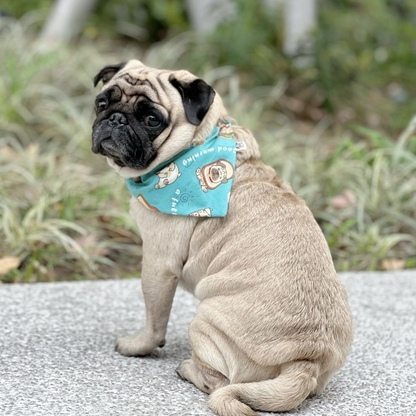Pug: (85, 56, 358, 416)
